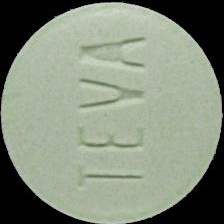0615-6557: (0, 0, 224, 224)
